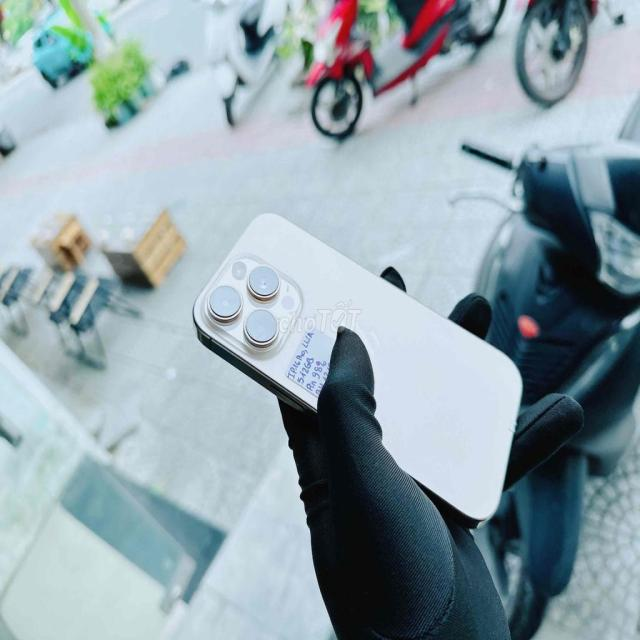gen_16: (183, 209, 524, 536)
